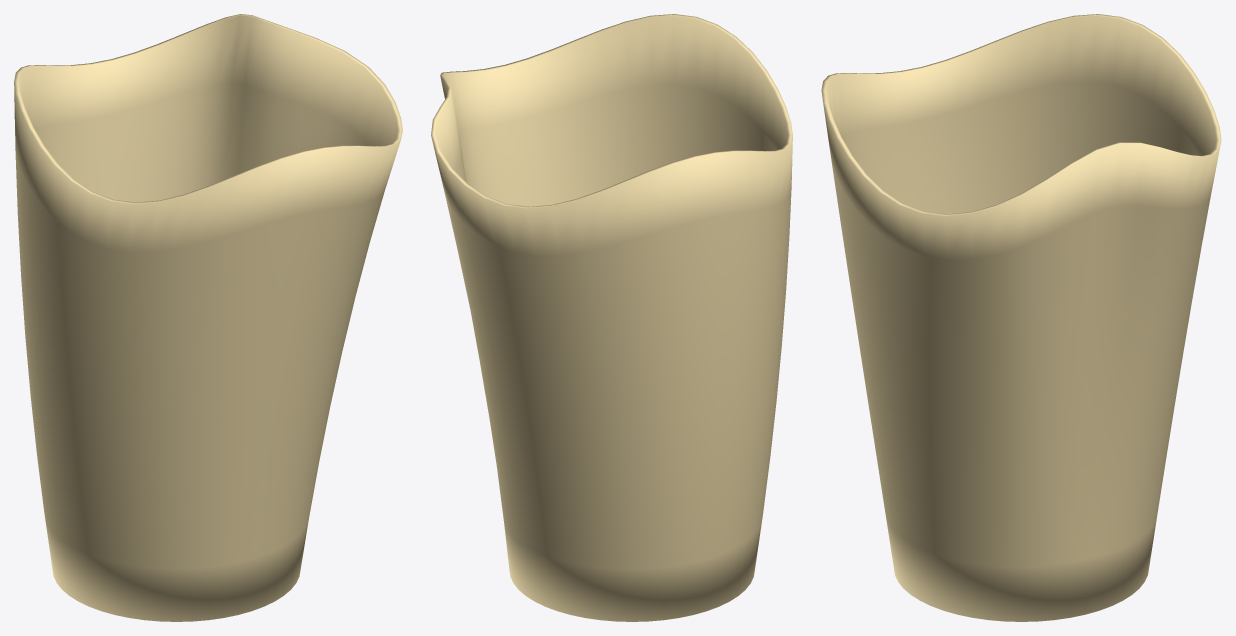
File: Discarded_Plastic_Cup.glb
3 renders of one model, left to right at view 1: azimuth 30°, elevation 25°; view 2: azimuth 150°, elevation 25°; view 3: azimuth 270°, elevation 25°, orthographic. The views are drawn at different scales.
Parts seen in each view (by area): view 1: Discarded_Plastic_Cup; view 2: Discarded_Plastic_Cup; view 3: Discarded_Plastic_Cup.
Boxes of the visible parts, <box> form: Discarded_Plastic_Cup: <box>14,14,402,621</box>; Discarded_Plastic_Cup: <box>431,14,792,621</box>; Discarded_Plastic_Cup: <box>821,14,1221,621</box>.
Size of the model in its own units: 0.1145 by 0.158 by 0.116.
